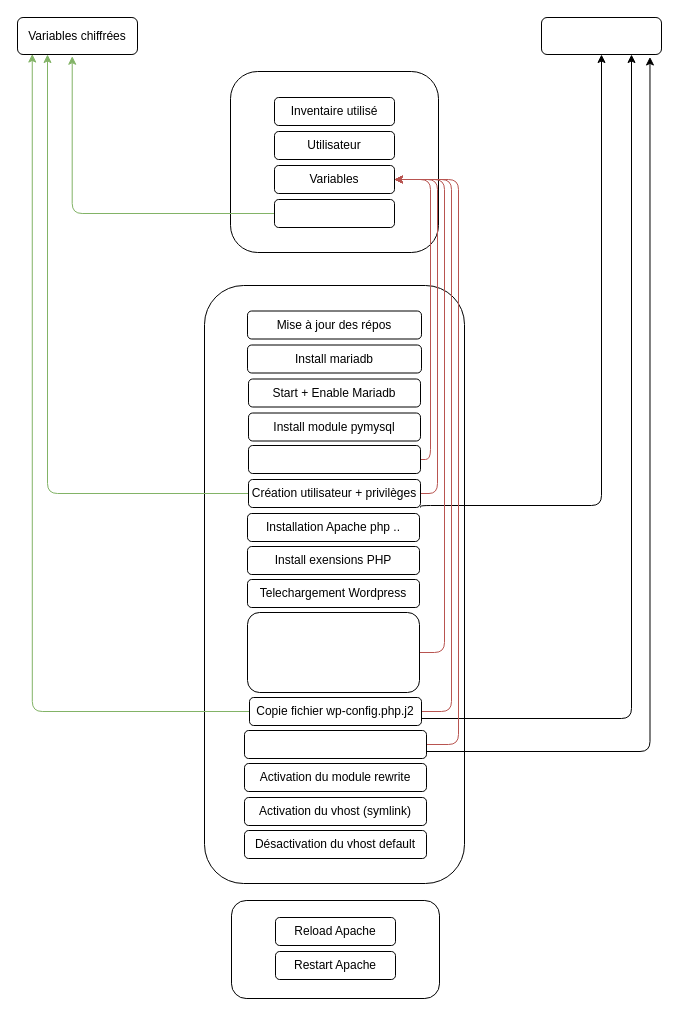
Image size: 679x1016. Some labels were removed from this diagram. Each missing label, with the centre of its shape:
Configuration, chemin, droits, permissions...: point 333,652
Copie fichier client1.com.conf.j2: point 335,744
Création base de donnée: point 334,459
Fichiers: point 601,35
Fichiers de variables: point 334,213
